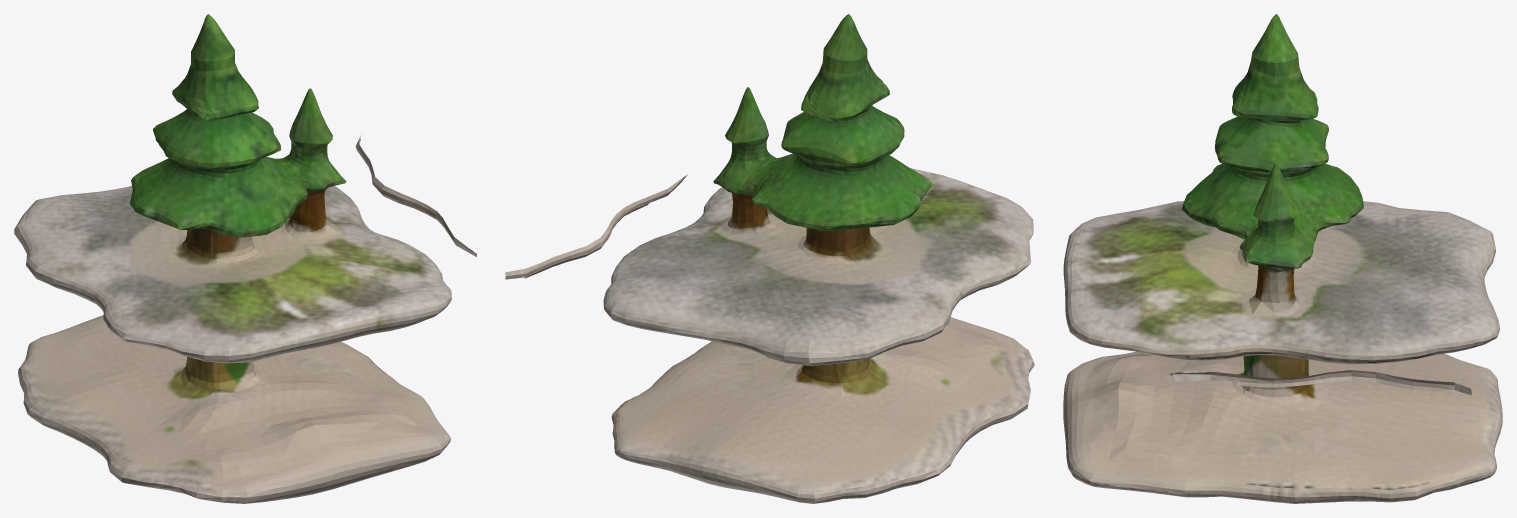
File: treecard2.glb
The picture shows the model from 3 angles, left to right: view 1: azimuth 30°, elevation 25°; view 2: azimuth 150°, elevation 25°; view 3: azimuth 270°, elevation 25°; orthographic projection.
Visible parts, largest first — view 1: geometry_0; view 2: geometry_0; view 3: geometry_0.
Part boxes in pixels (left/top/right/bottom): geometry_0: left=14, top=14, right=476, bottom=503; geometry_0: left=505, top=14, right=1034, bottom=503; geometry_0: left=1063, top=14, right=1502, bottom=503.
Size of the model in its own units: 0.7114 by 0.7283 by 0.6976.
1 material, 1 textured.
